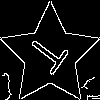T: (25, 30, 77, 82)
